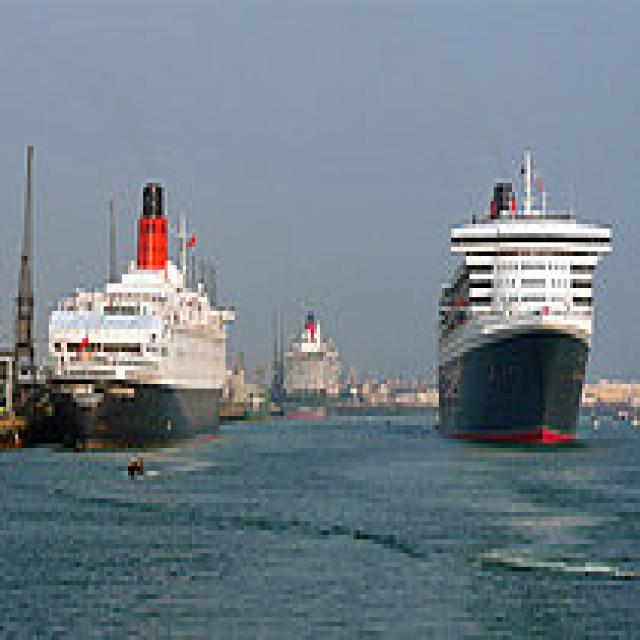Ship: (428, 129, 617, 458), (38, 170, 245, 449)
